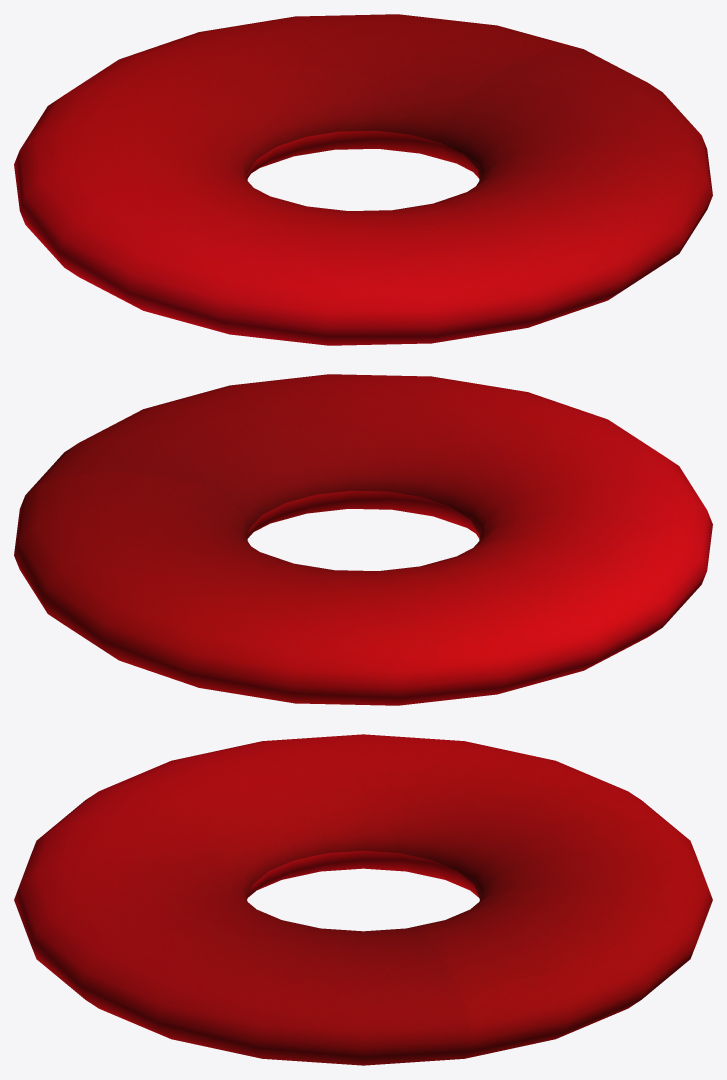
File: Portal.obj
The picture shows the model from 3 angles, top to bottom: view 1: azimuth 30°, elevation 25°; view 2: azimuth 150°, elevation 25°; view 3: azimuth 270°, elevation 25°; orthographic projection.
Parts seen in each view (by area): view 1: pTorus1; view 2: pTorus1; view 3: pTorus1.
Part boxes in pixels (x1,y1,x2,y2): pTorus1: [14, 14, 712, 345]; pTorus1: [14, 374, 712, 705]; pTorus1: [14, 734, 712, 1065].
Bounding box in the file's own units: 3 × 0.4403 × 3.
Materials: 1 (1 with a texture image).
